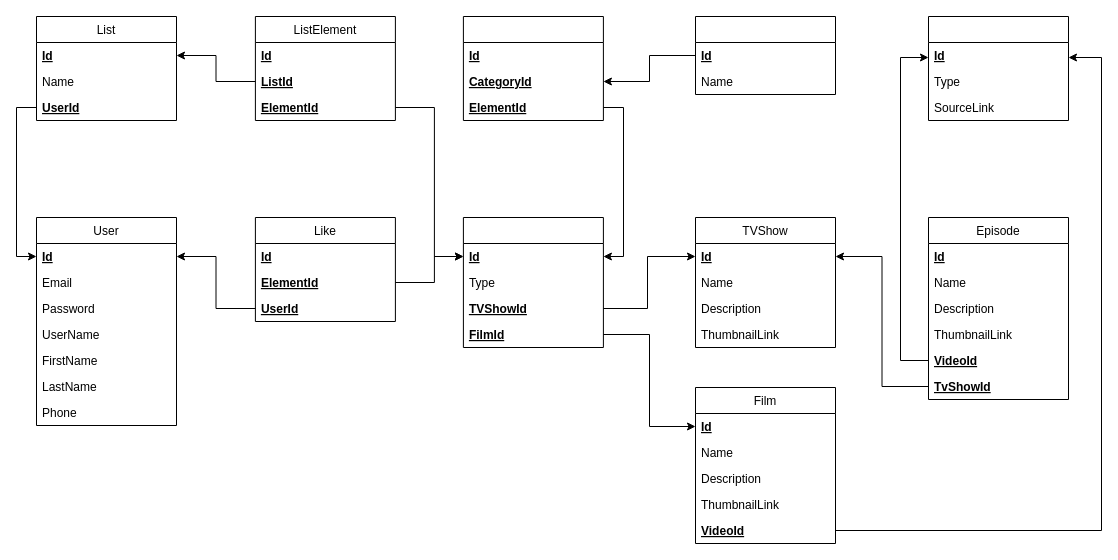
Image size: 1118x560. Some labels were removed from this diagram. Here are the shapes that lost their labels. From the top down, the box of each, then its label:
(462, 16, 603, 120): ElementCategory
(694, 16, 836, 94): Category
(928, 16, 1068, 120): Video
(462, 216, 603, 348): Element
